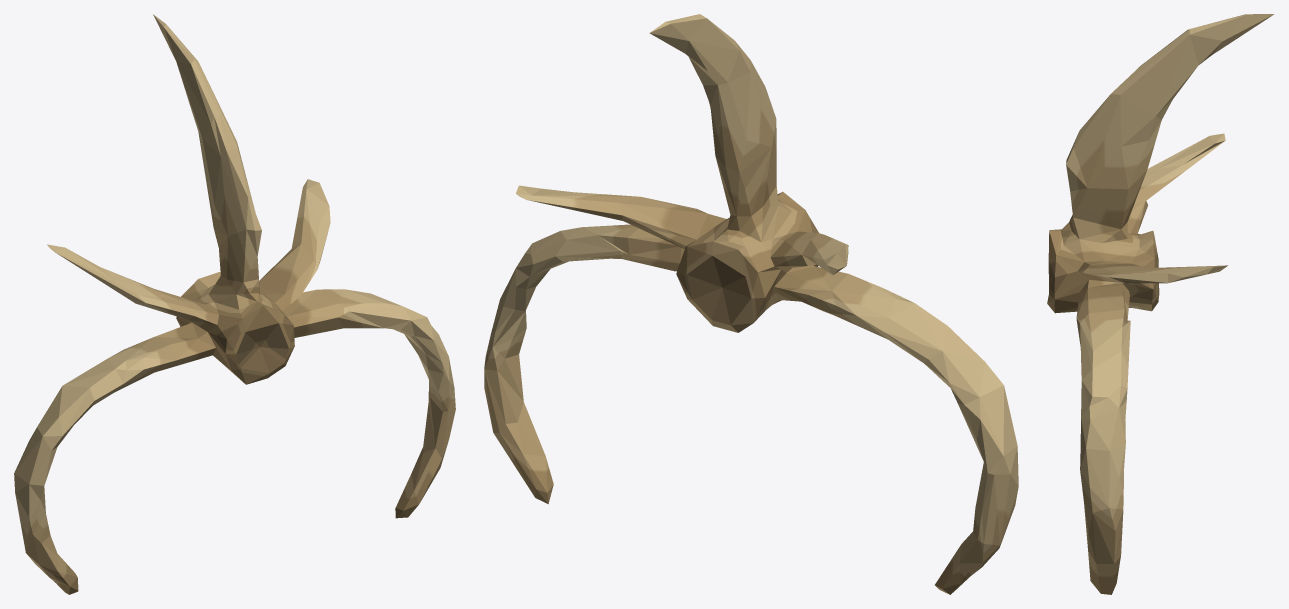
The model's file is worlds_SM_Prop_Skeleton_Spine_01.gltf.
The picture shows the model from 3 angles, left to right: view 1: azimuth 30°, elevation 25°; view 2: azimuth 150°, elevation 25°; view 3: azimuth 270°, elevation 25°; orthographic projection. The views are drawn at different scales.
Visible parts, largest first — view 1: SM_Prop_Skeleton_Spine_01; view 2: SM_Prop_Skeleton_Spine_01; view 3: SM_Prop_Skeleton_Spine_01.
Boxes of the visible parts, x1=… form: SM_Prop_Skeleton_Spine_01: x1=14, y1=14, x2=455, y2=594; SM_Prop_Skeleton_Spine_01: x1=484, y1=14, x2=1018, y2=594; SM_Prop_Skeleton_Spine_01: x1=1047, y1=14, x2=1274, y2=594.
Bounding box in the file's own units: 111 × 119 × 49.55.
Materials: 1 (1 with a texture image).
